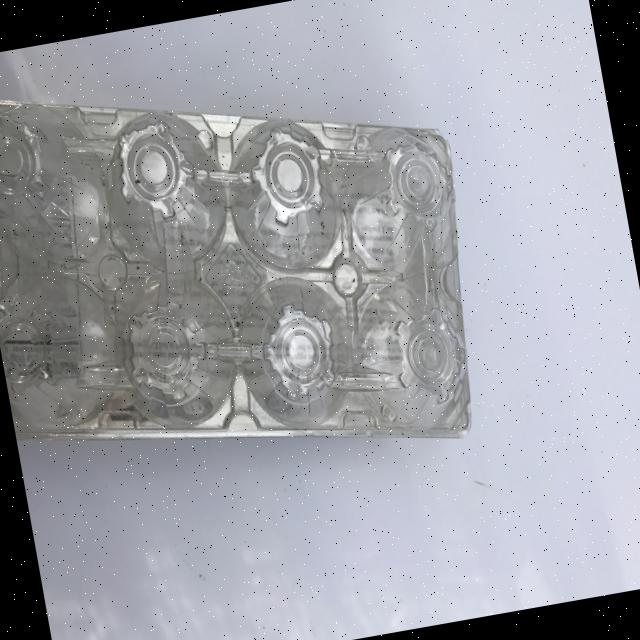plastic: (0, 18, 500, 514)
